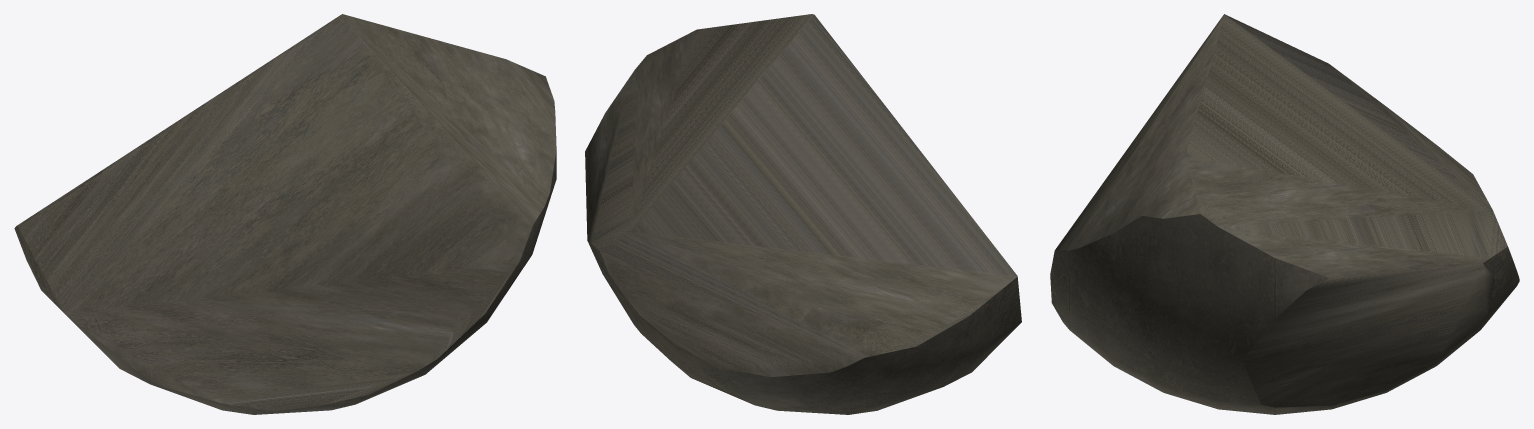
The picture shows the model from 3 angles, left to right: view 1: azimuth 30°, elevation 25°; view 2: azimuth 150°, elevation 25°; view 3: azimuth 270°, elevation 25°; orthographic projection. The views are drawn at different scales.
Visible parts, largest first — view 1: Sphere_cell.004; view 2: Sphere_cell.004; view 3: Sphere_cell.004.
Part boxes in pixels (<box>): Sphere_cell.004: <box>14,14,556,414</box>; Sphere_cell.004: <box>585,14,1021,414</box>; Sphere_cell.004: <box>1050,14,1519,414</box>.
Bounding box in the file's own units: 4.4 × 3.4 × 3.67.
1 material, 1 textured.
